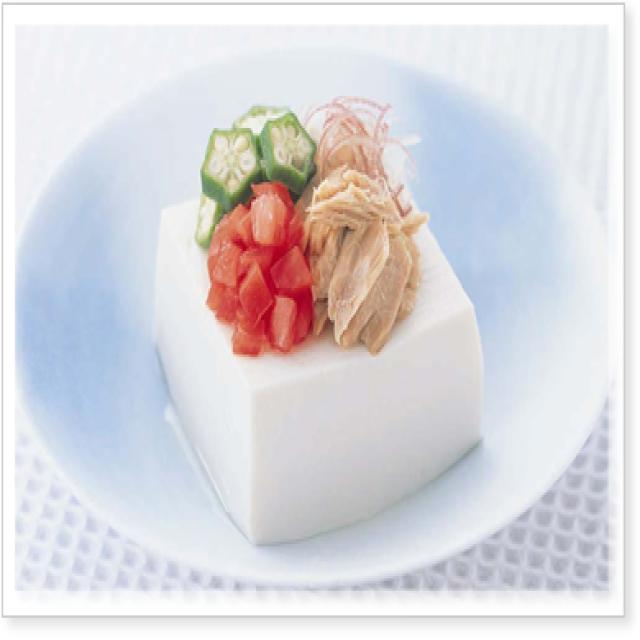豆腐料理: (149, 91, 486, 544)
